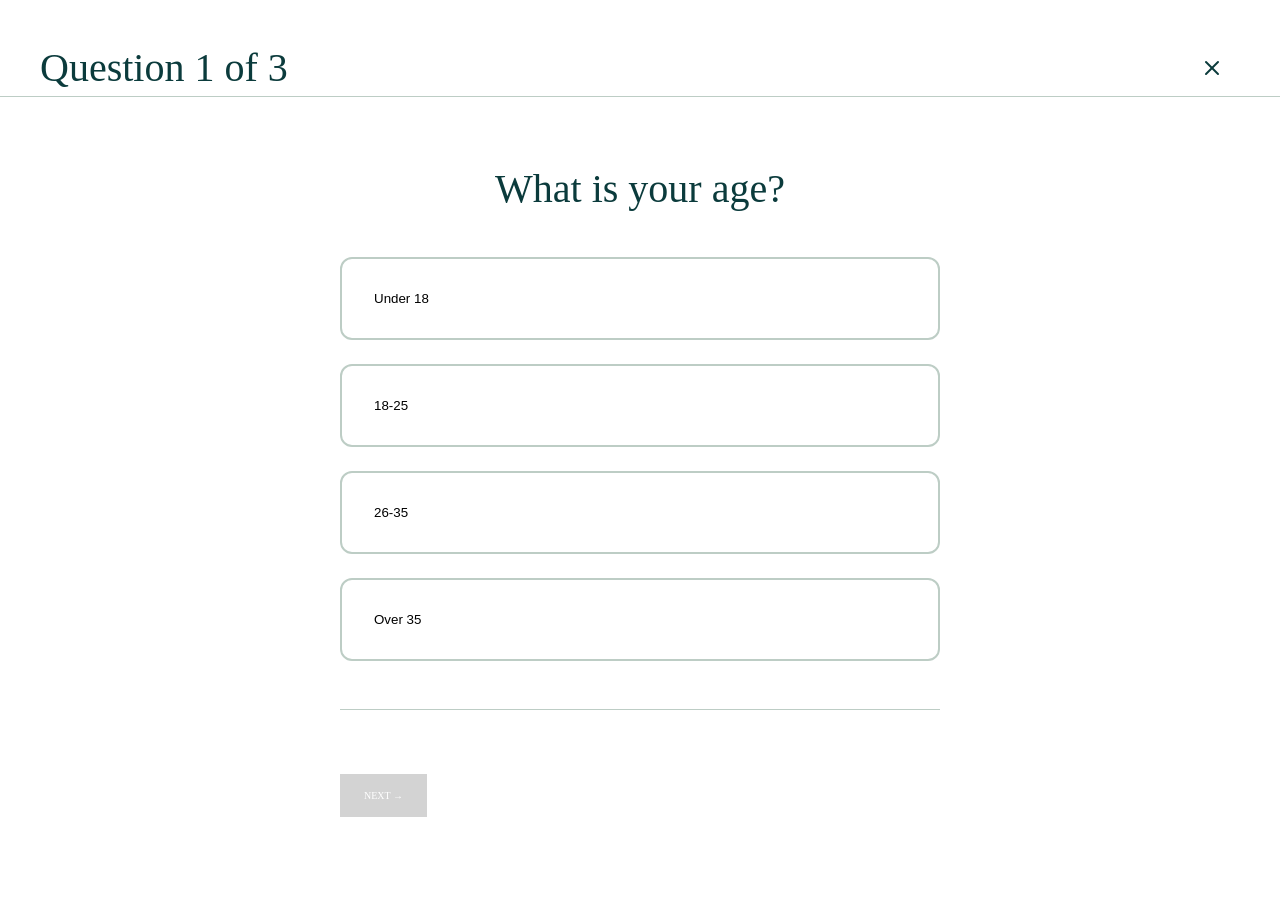
Test: QuestionaireModal › Question Navigation - Happy Path › advances to next question when Next is clicked
Expected: the heading "What is your age?" is shown, [495, 166, 785, 211]
Click the button "18-25".
click(391, 406)  # box [340, 364, 940, 447]
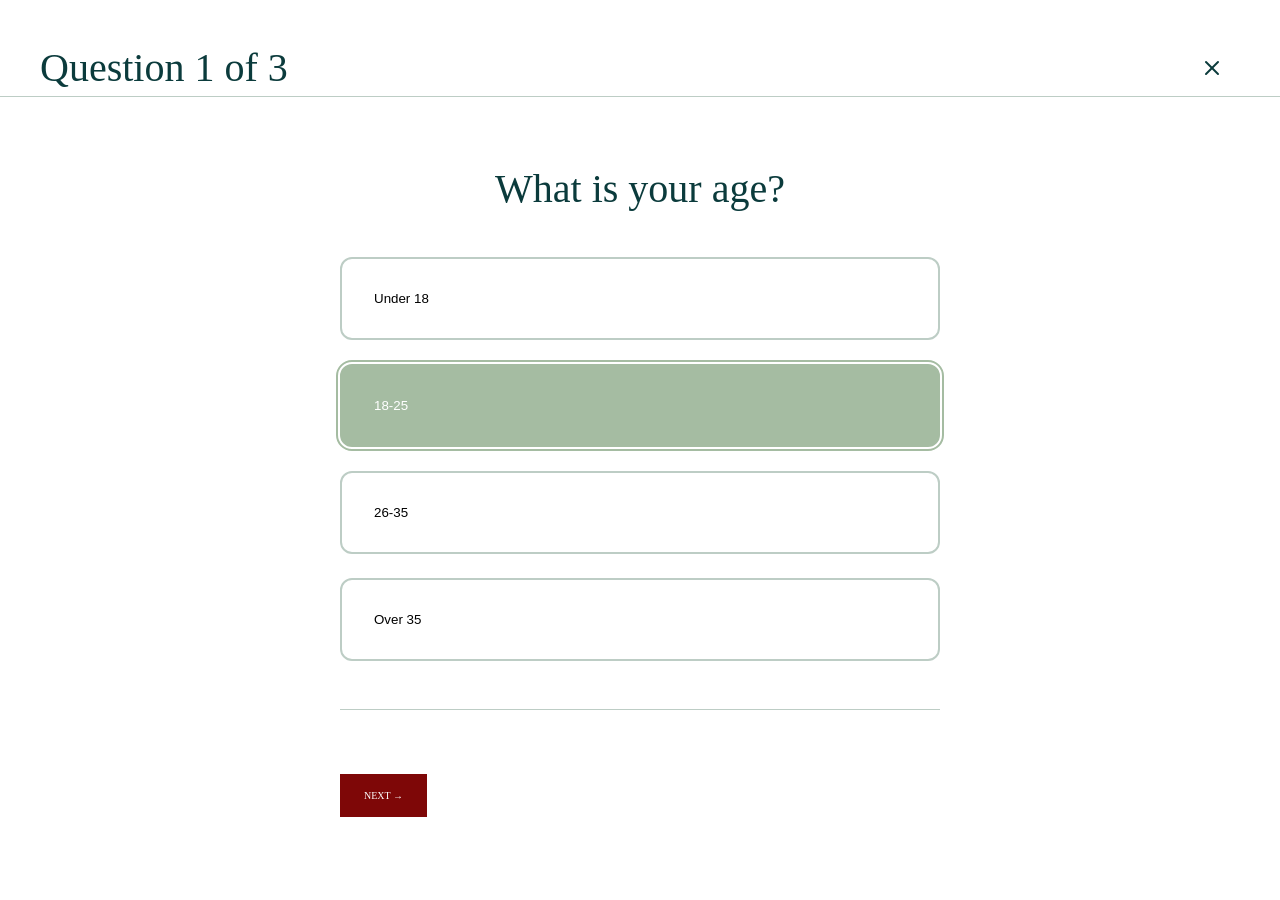
Click the button "Next →".
click(384, 796)  # box [340, 774, 427, 817]
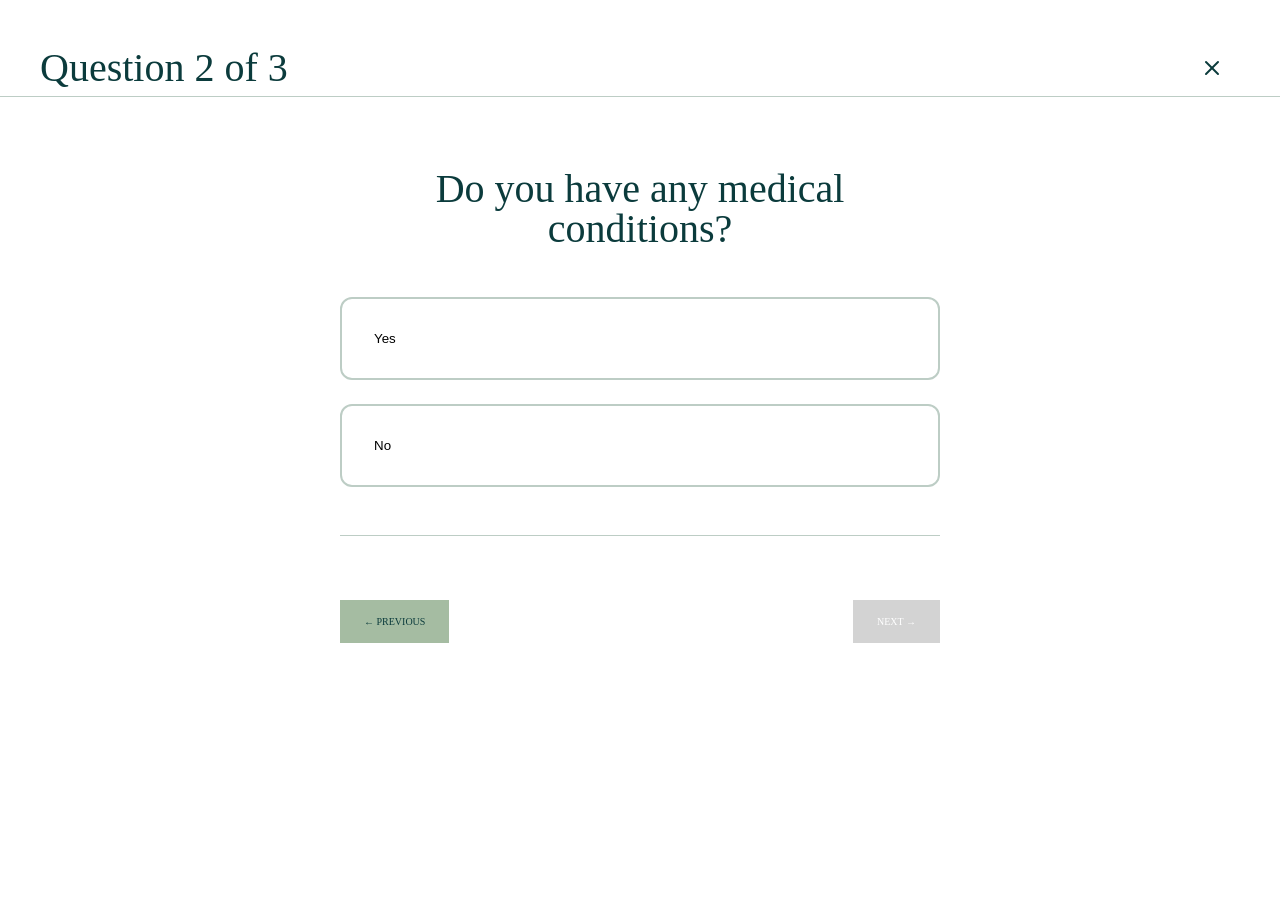
Now the heading "Question 2 of 3" is shown, box [40, 48, 288, 88]
Now the heading "Do you have any medical conditions?" is shown, box [436, 166, 844, 251]
